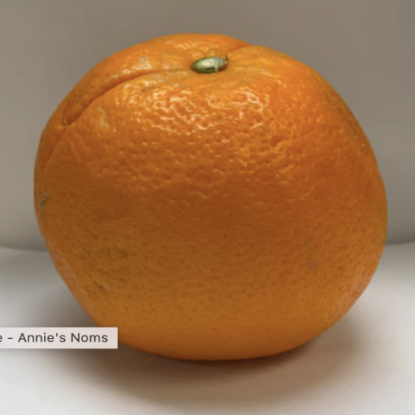orange: (5, 13, 406, 361)
